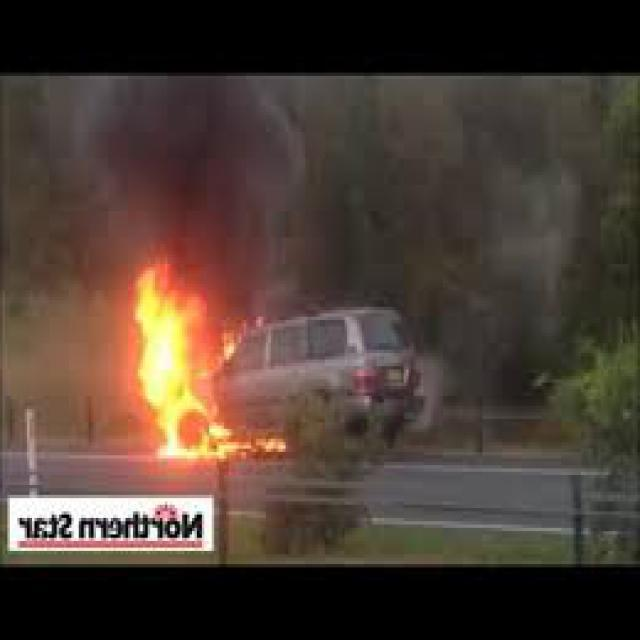Fire: (128, 270, 294, 482)
Smoke: (57, 70, 315, 257), (455, 77, 573, 370), (398, 350, 464, 442)
